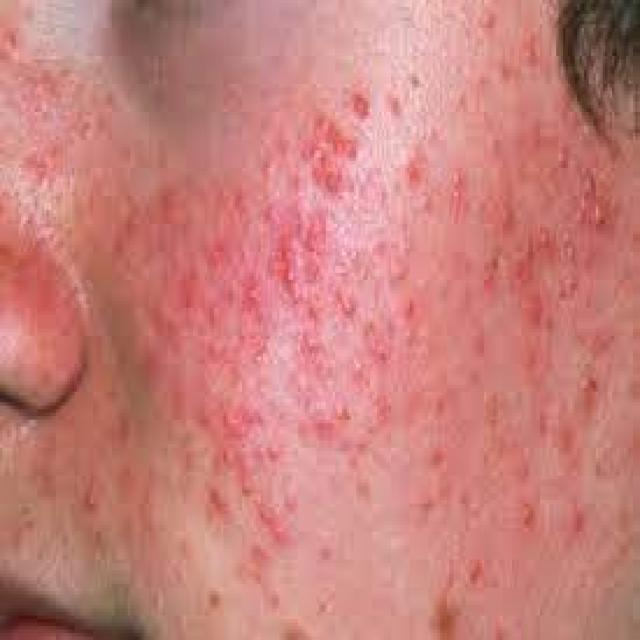Acne: (11, 21, 607, 604)
